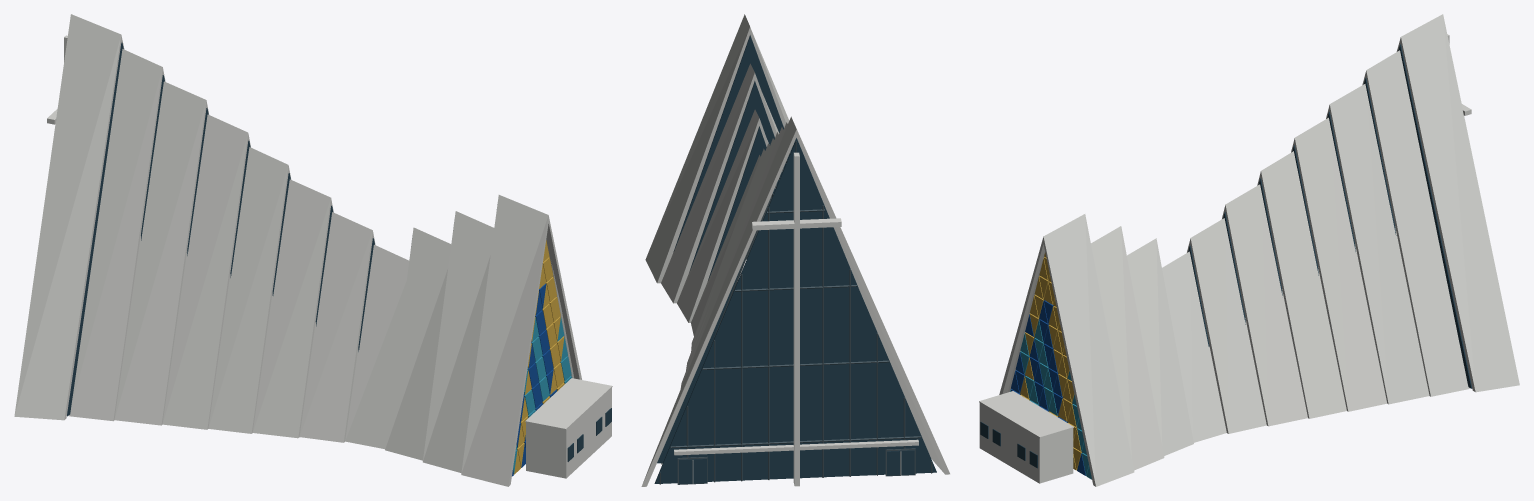
File: arctic-cathedral-far.glb
3 views of the same model, side by side, from view 1: azimuth 30°, elevation 25°; view 2: azimuth 150°, elevation 25°; view 3: azimuth 270°, elevation 25° (orthographic). The views are drawn at different scales.
Parts seen in each view (by area): view 1: arctic-cathedral-0-shell, arctic-cathedral-0-glass, arctic-cathedral-0-glow, arctic-cathedral-0-blue, arctic-cathedral-0-light; view 2: arctic-cathedral-0-glass, arctic-cathedral-0-shell, arctic-cathedral-0-frame; view 3: arctic-cathedral-0-shell, arctic-cathedral-0-glass, arctic-cathedral-0-glow, arctic-cathedral-0-blue, arctic-cathedral-0-light.
Boxes of the visible parts, <box> form: arctic-cathedral-0-shell: <box>14,14,612,486</box>; arctic-cathedral-0-glass: <box>67,42,611,461</box>; arctic-cathedral-0-glow: <box>514,240,564,474</box>; arctic-cathedral-0-blue: <box>512,283,557,476</box>; arctic-cathedral-0-light: <box>513,317,572,473</box>; arctic-cathedral-0-glass: <box>654,35,936,484</box>; arctic-cathedral-0-shell: <box>641,14,949,486</box>; arctic-cathedral-0-frame: <box>659,141,932,484</box>; arctic-cathedral-0-shell: <box>979,14,1519,486</box>; arctic-cathedral-0-glass: <box>980,44,1472,468</box>; arctic-cathedral-0-glow: <box>1020,252,1081,470</box>; arctic-cathedral-0-blue: <box>1010,300,1085,475</box>; arctic-cathedral-0-light: <box>1010,320,1091,479</box>.
Size of the model in its own units: 46.38 by 35 by 53.39.
